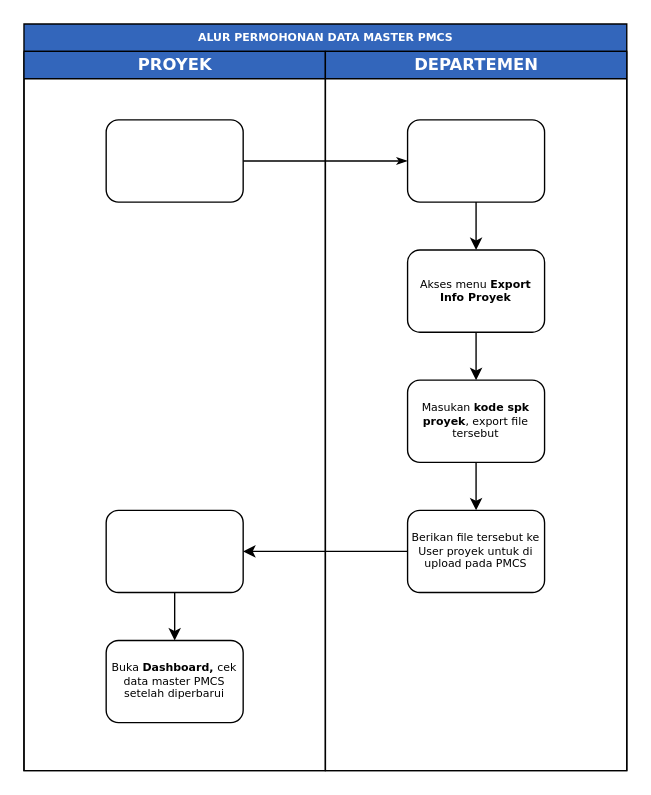
Image size: 651x795. Some labels were removed from this diagram. Here are the shapes that lost their labels. From the top down, the centre of each, then its label:
At (x=174, y=160): "Proyek membuat permohonan ke PIC SIMDIV di departemen masing-masing".
At (x=475, y=160): "Memperbarui dan memeriksa kelengkapan data master proyek di SIMDIV".
At (x=174, y=551): "Upload data master PMCS di menu Restore Informasi Project (SPK)".
